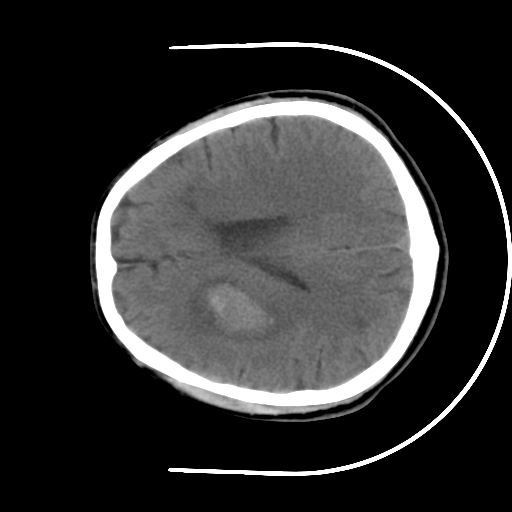a: (174, 270, 293, 347)
